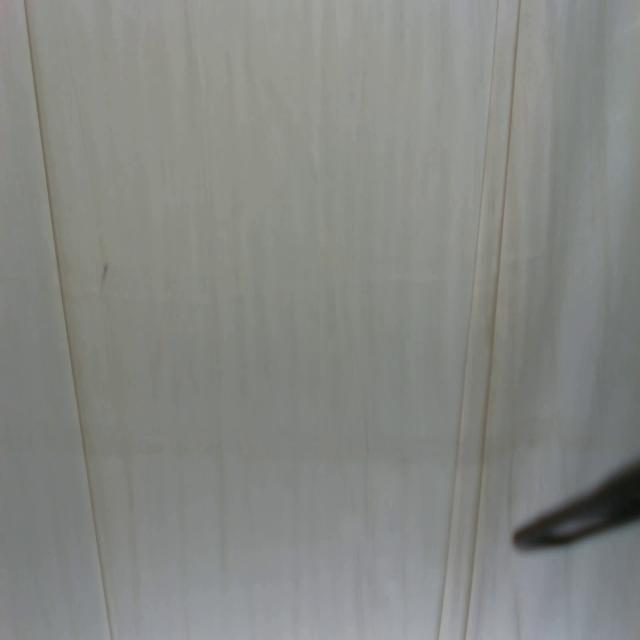crease: (24, 0, 116, 640), (435, 0, 522, 640)
hole: (99, 258, 112, 284)
